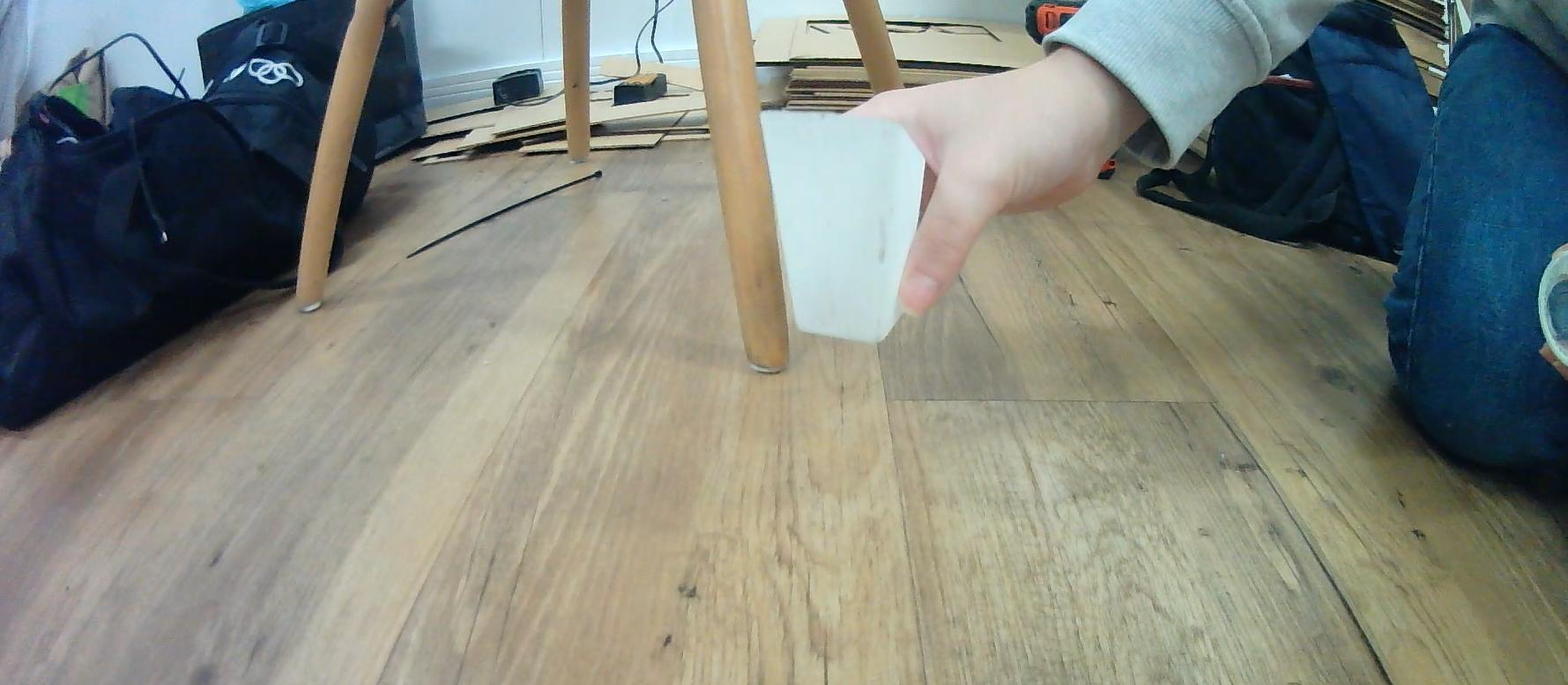erva_daninha: (761, 108, 935, 344)
